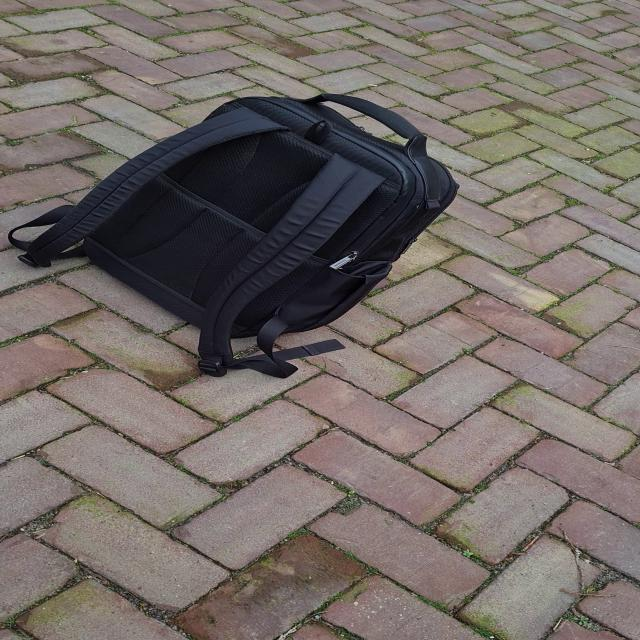backpack: (17, 93, 471, 373)
